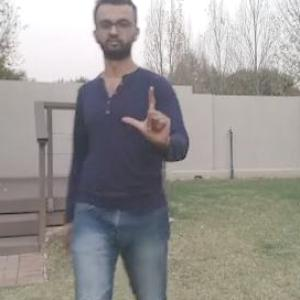land_hand: (118, 81, 178, 151)
